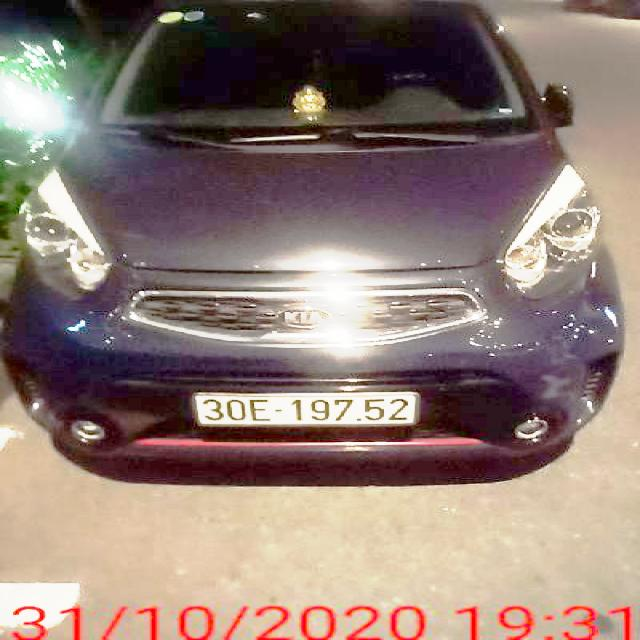license_plate: (198, 393, 418, 424)
